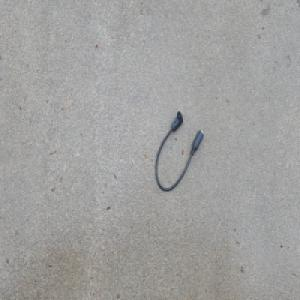Wire: (154, 108, 203, 192)
